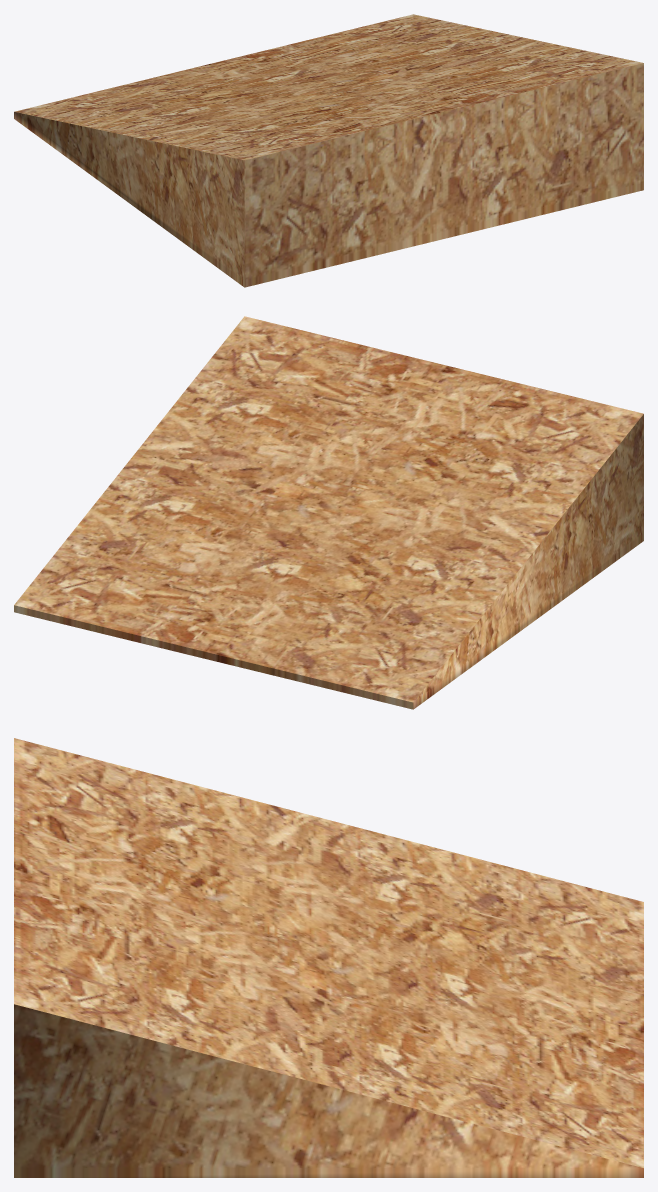
Rendered from full_ramp_elevated_1.dae.
The picture shows the model from 3 angles, top to bottom: view 1: azimuth 30°, elevation 25°; view 2: azimuth 150°, elevation 25°; view 3: azimuth 270°, elevation 25°; orthographic projection. The views are drawn at different scales.
Parts seen in each view (by area): view 1: Plane; view 2: Plane; view 3: Plane.
Part boxes in pixels (box(x1,y1,x2,y2)): Plane: box(14, 14, 643, 287); Plane: box(14, 316, 643, 709); Plane: box(14, 738, 643, 1177).
Bounding box in the file's own units: 1.18 × 1.18 × 0.3591.
1 material, 1 textured.
